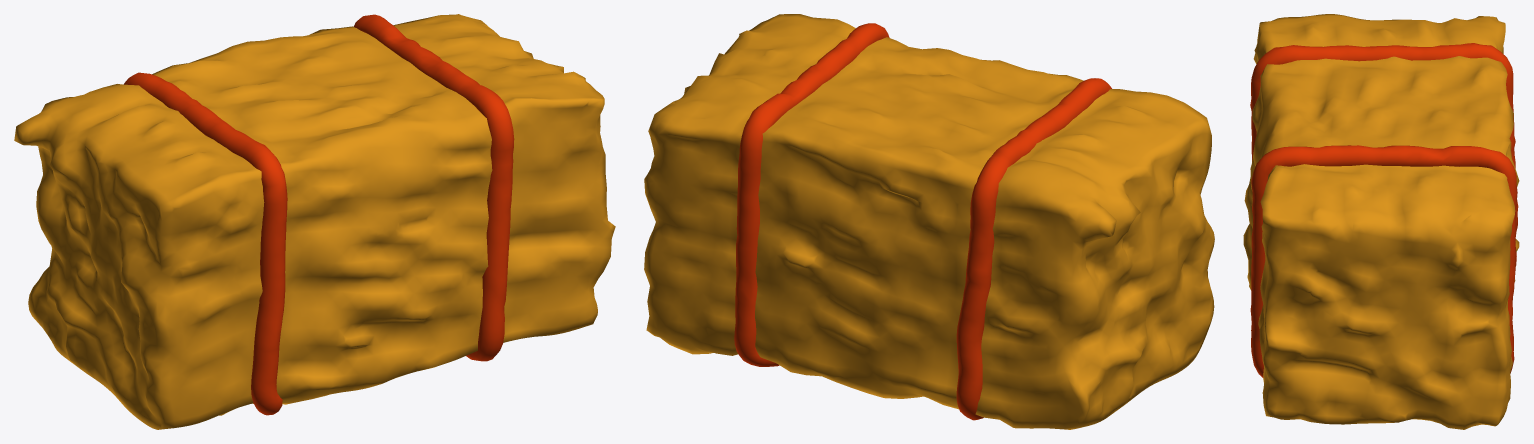
The model's file is Haybale_Stylized_Low.fbx.
3 renders of one model, left to right at view 1: azimuth 30°, elevation 25°; view 2: azimuth 150°, elevation 25°; view 3: azimuth 270°, elevation 25°, orthographic. The views are drawn at different scales.
Parts seen in each view (by area): view 1: Heuballen_Stylized_Low; view 2: Heuballen_Stylized_Low; view 3: Heuballen_Stylized_Low.
Boxes of the visible parts, <box> form: Heuballen_Stylized_Low: <box>14,14,615,429</box>; Heuballen_Stylized_Low: <box>644,14,1214,429</box>; Heuballen_Stylized_Low: <box>1243,14,1519,429</box>.
Bounding box in the file's own units: 423 × 225 × 230.
